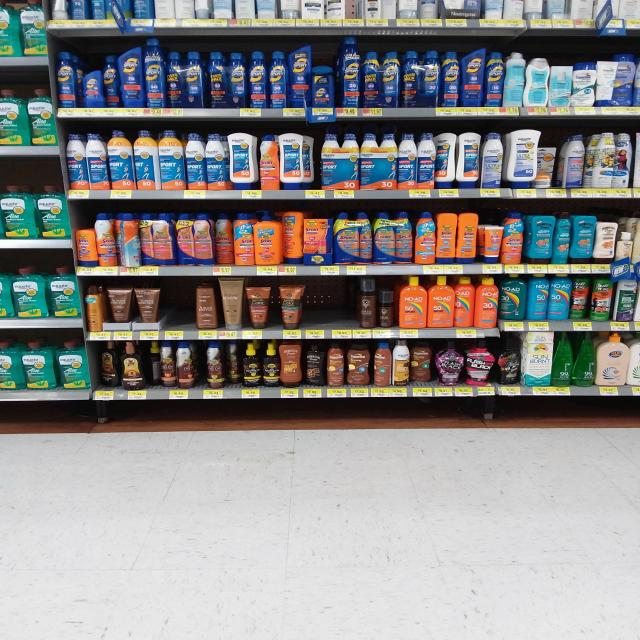void: (324, 276, 352, 340), (302, 275, 327, 342), (168, 278, 191, 342)
